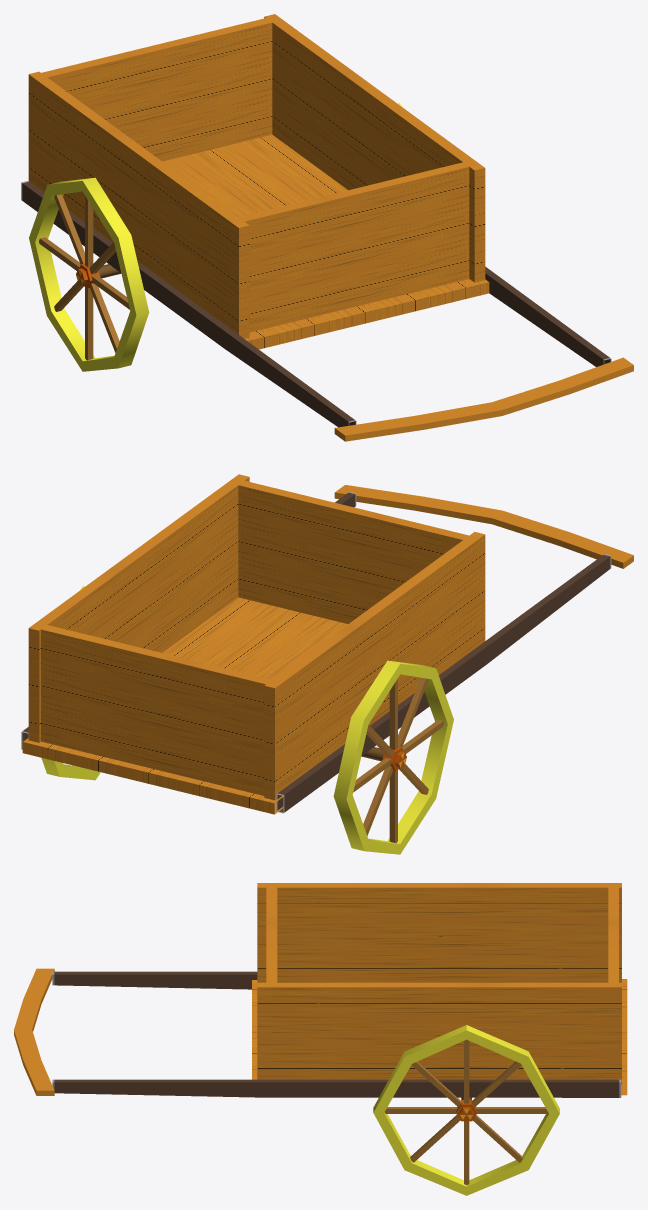
The model's file is cart.fbx.
3 views of the same model, one above another, from view 1: azimuth 30°, elevation 25°; view 2: azimuth 150°, elevation 25°; view 3: azimuth 270°, elevation 25° (orthographic). The views are drawn at different scales.
Visible parts, largest first — view 1: pCube4, pCube2, pCube7, pCube3, pCube1, pCube26, pCube6, pCube9, pCube5, pCube30, pCube29, pCube27 (+1 smaller); view 2: pCube7, pCube2, pCube4, pCube3, pCube1, pCube26 (×2), pCube6, pCube9, pCube28, pCube29, pCube27, pCube30; view 3: pCube2, pCube3, pCube5, pCube26, pCube6, pCube9, pCube1, pCube4, pCube7, pCube31, pCube34, pCube32 (+1 smaller).
Part boxes in pixels (bbox=[...]): pCube4: bbox=[238, 162, 469, 332]; pCube2: bbox=[28, 71, 249, 338]; pCube7: bbox=[41, 18, 272, 161]; pCube3: bbox=[264, 14, 485, 282]; pCube1: bbox=[162, 134, 489, 349]; pCube26: bbox=[29, 177, 149, 371]; pCube6: bbox=[21, 181, 356, 427]; pCube9: bbox=[334, 357, 633, 441]; pCube5: bbox=[485, 266, 611, 366]; pCube30: bbox=[54, 194, 119, 352]; pCube29: bbox=[85, 195, 93, 360]; pCube27: bbox=[39, 237, 129, 309]; pCube7: bbox=[41, 625, 271, 795]; pCube2: bbox=[264, 532, 485, 800]; pCube4: bbox=[238, 480, 468, 623]; pCube3: bbox=[28, 474, 249, 742]; pCube1: bbox=[22, 597, 347, 814]; pCube26 (×2): bbox=[41, 586, 453, 854]; pCube6: bbox=[276, 554, 611, 813]; pCube9: bbox=[334, 485, 633, 568]; pCube28: bbox=[363, 677, 428, 835]; pCube29: bbox=[389, 678, 397, 843]; pCube27: bbox=[353, 720, 443, 792]; pCube30: bbox=[366, 724, 428, 794]; pCube2: bbox=[257, 883, 621, 982]; pCube3: bbox=[257, 982, 621, 1084]; pCube5: bbox=[52, 1079, 621, 1097]; pCube26: bbox=[373, 1025, 559, 1195]; pCube6: bbox=[52, 971, 257, 989]; pCube9: bbox=[14, 968, 54, 1095]; pCube1: bbox=[252, 979, 627, 1095]; pCube4: bbox=[266, 887, 277, 982]; pCube7: bbox=[608, 887, 618, 982]; pCube31: bbox=[384, 1107, 548, 1113]; pCube34: bbox=[410, 1061, 521, 1162]; pCube32: bbox=[411, 1061, 522, 1162].
Size of the model in its own units: 3.01 by 1.99 by 5.78.
3 materials, 3 textured.
